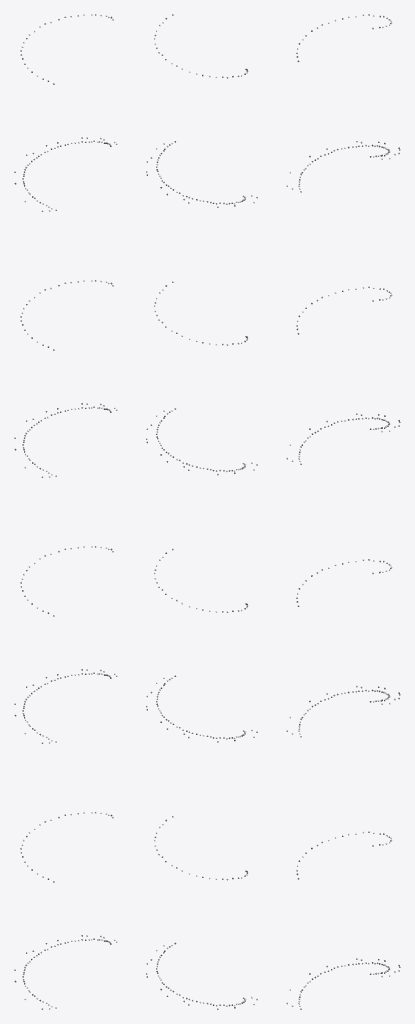
The model's file is Circle1Crowd3Heads.obj.
The picture shows the model from 3 angles, left to right: view 1: azimuth 30°, elevation 25°; view 2: azimuth 150°, elevation 25°; view 3: azimuth 330°, elevation 25°; orthographic projection. The views are drawn at different scales.
Visible parts, largest first — view 1: Circle1Crowd3Heads; view 2: Circle1Crowd3Heads; view 3: Circle1Crowd3Heads.
Part boxes in pixels (x1,y1,x2,y2): Circle1Crowd3Heads: (14,14,117,1009); Circle1Crowd3Heads: (146,14,257,1009); Circle1Crowd3Heads: (286,14,400,1009).
Size of the model in its own units: 29.75 by 292 by 24.19.
1 material, 1 textured.
